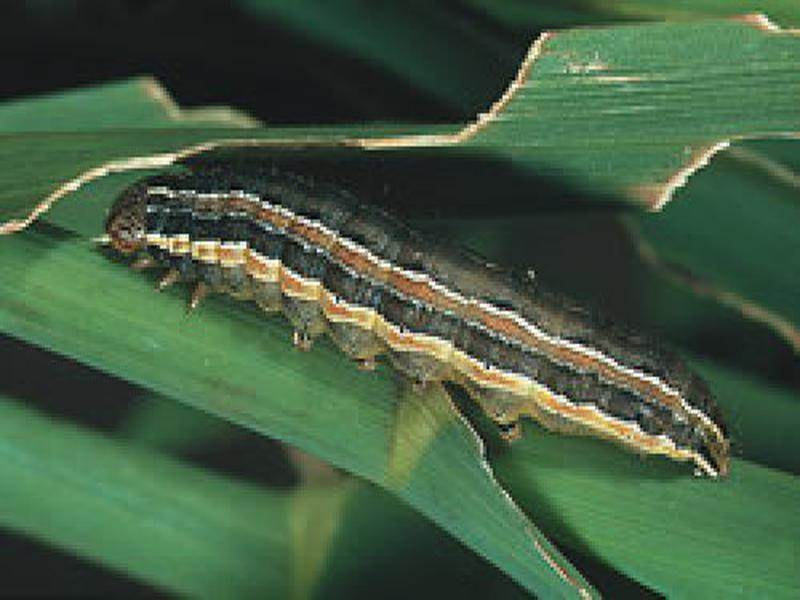Armyworms: (97, 169, 735, 518)
